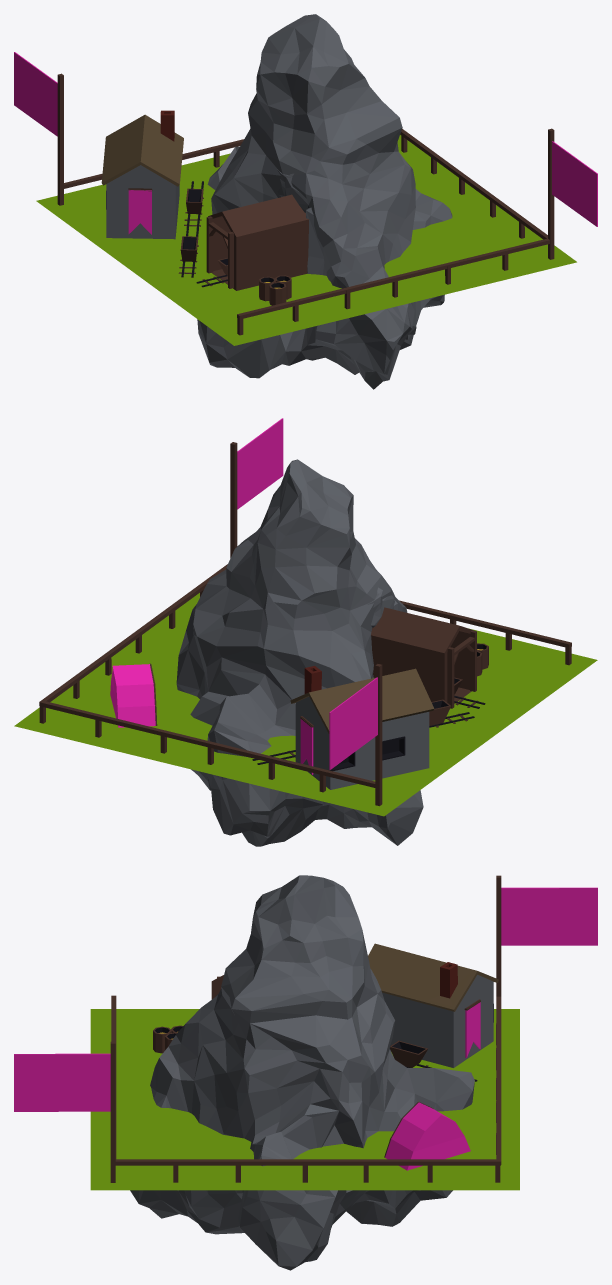
File: updatedMineLV2.fbx
The picture shows the model from 3 angles, top to bottom: view 1: azimuth 30°, elevation 25°; view 2: azimuth 150°, elevation 25°; view 3: azimuth 270°, elevation 25°; orthographic projection. The views are drawn at different scales.
Visible parts, largest first — view 1: Moutain, Ground, Camp, Tunnel; view 2: Moutain, Ground, Camp, Tunnel; view 3: Moutain, Camp, Ground, Tunnel.
Part boxes in pixels (bbox=[...]): Moutain: bbox=[197, 14, 452, 389]; Ground: bbox=[36, 135, 576, 345]; Camp: bbox=[14, 52, 597, 335]; Tunnel: bbox=[178, 181, 308, 290]; Moutain: bbox=[176, 459, 423, 846]; Ground: bbox=[14, 593, 597, 816]; Camp: bbox=[39, 418, 571, 806]; Tunnel: bbox=[252, 607, 485, 764]; Moutain: bbox=[130, 875, 474, 1270]; Camp: bbox=[14, 875, 597, 1182]; Ground: bbox=[90, 1009, 519, 1190]; Tunnel: bbox=[211, 975, 477, 1081].
Bounding box in the file's own units: 2283 × 2098 × 3105.
